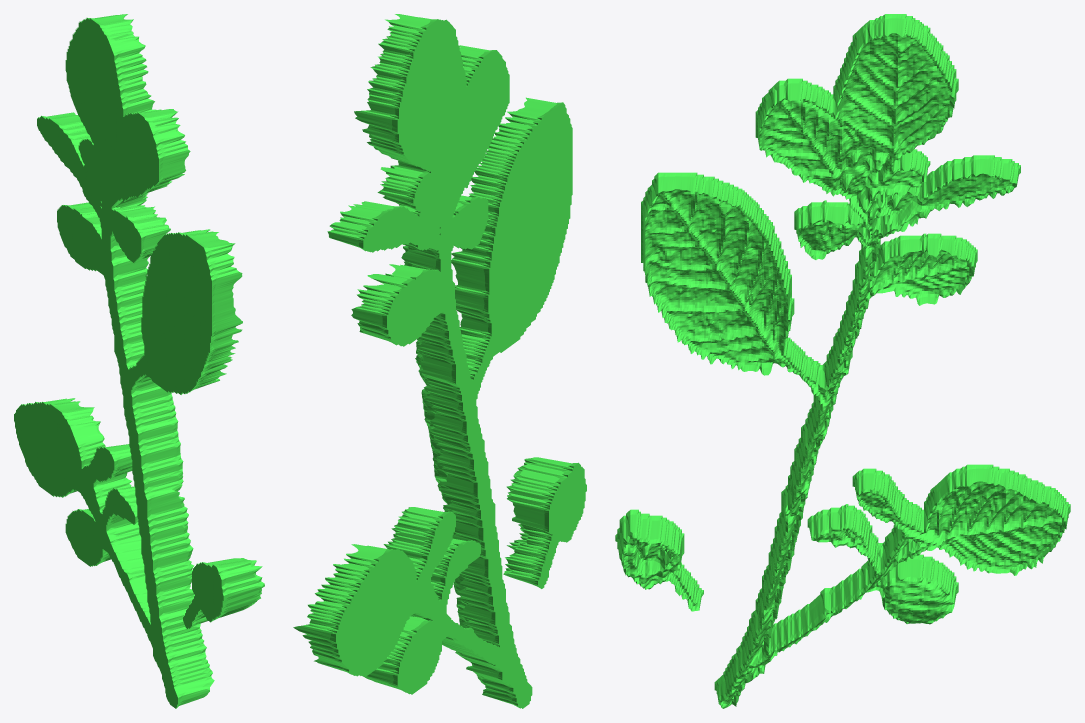
3 views of the same model, side by side, from view 1: azimuth 30°, elevation 25°; view 2: azimuth 150°, elevation 25°; view 3: azimuth 270°, elevation 25° (orthographic). The views are drawn at different scales.
Visible parts, largest first — view 1: Arjuna; view 2: Arjuna; view 3: Arjuna.
Boxes of the visible parts, box(x1,y1,x2,y2) form: Arjuna: box(14, 14, 264, 708); Arjuna: box(293, 14, 586, 708); Arjuna: box(615, 14, 1070, 708).
Bounding box in the file's own units: 2.71 × 36.02 × 21.8.
